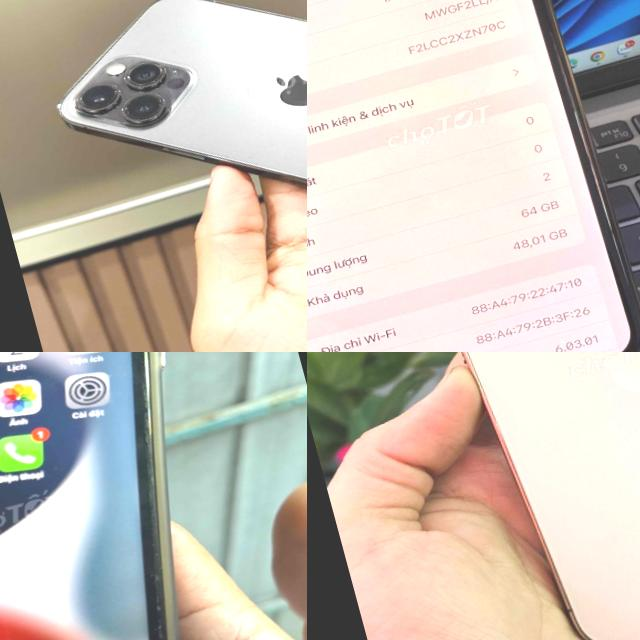gen_11: (307, 0, 640, 352)
gen_12_13: (27, 0, 307, 323), (463, 352, 640, 640)
gen_7_8: (0, 352, 296, 640), (106, 370, 186, 512)
